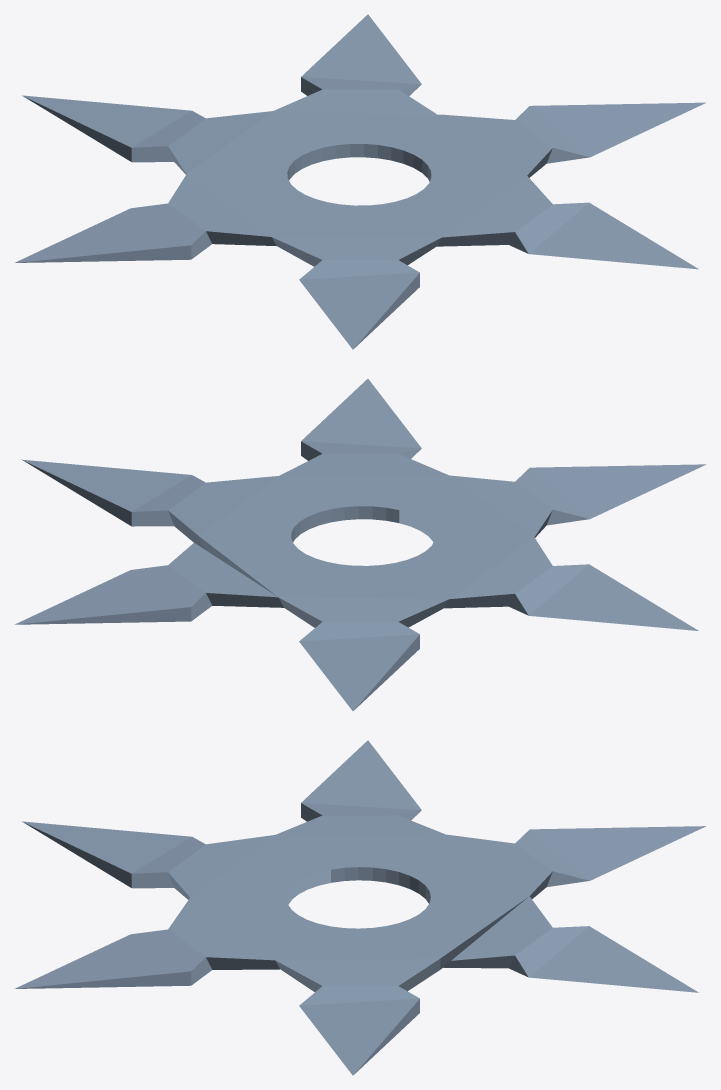
File: Shuriken.fbx
3 renders of one model, top to bottom at view 1: azimuth 30°, elevation 25°; view 2: azimuth 150°, elevation 25°; view 3: azimuth 270°, elevation 25°, orthographic.
Parts seen in each view (by area): view 1: Turning Shuriken; view 2: Turning Shuriken; view 3: Turning Shuriken.
Part boxes in pixels (x1=…): Turning Shuriken: x1=15, y1=14, x2=706, y2=349; Turning Shuriken: x1=15, y1=379, x2=706, y2=710; Turning Shuriken: x1=15, y1=740, x2=706, y2=1075.
Bounding box in the file's own units: 496 × 12.77 × 435.
